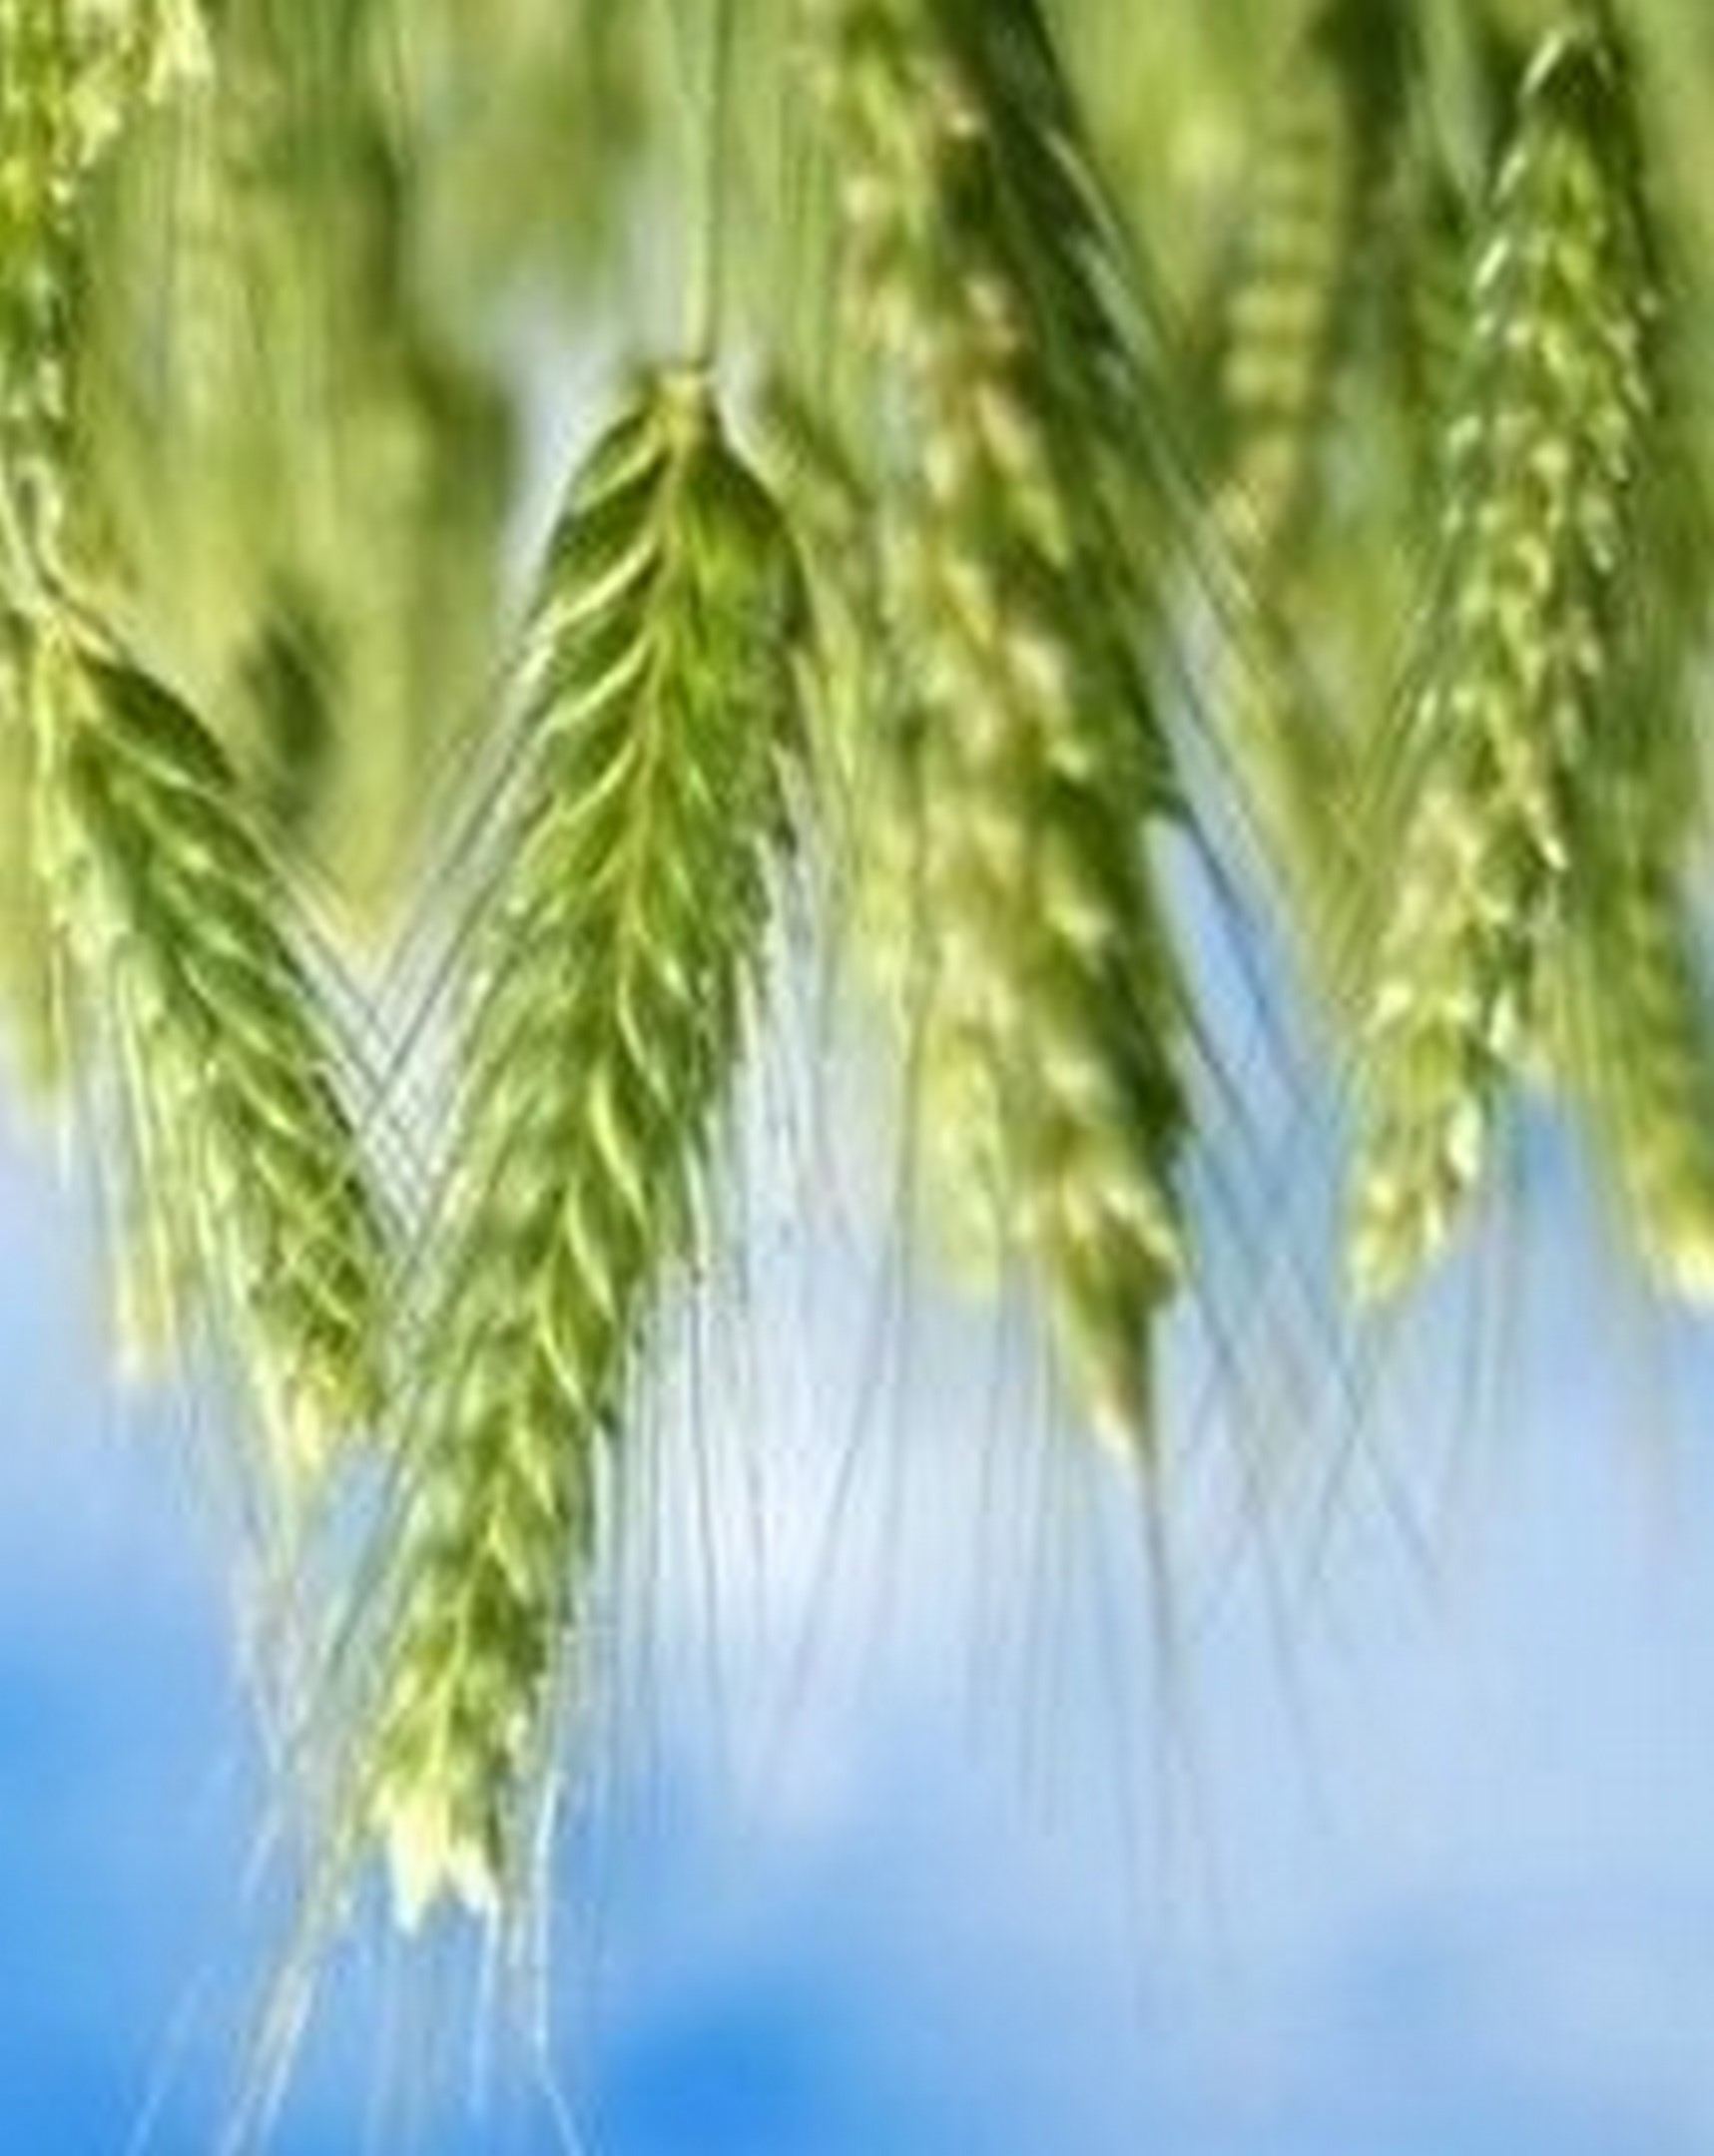Healthy Wheat: (350, 409, 858, 1948)
